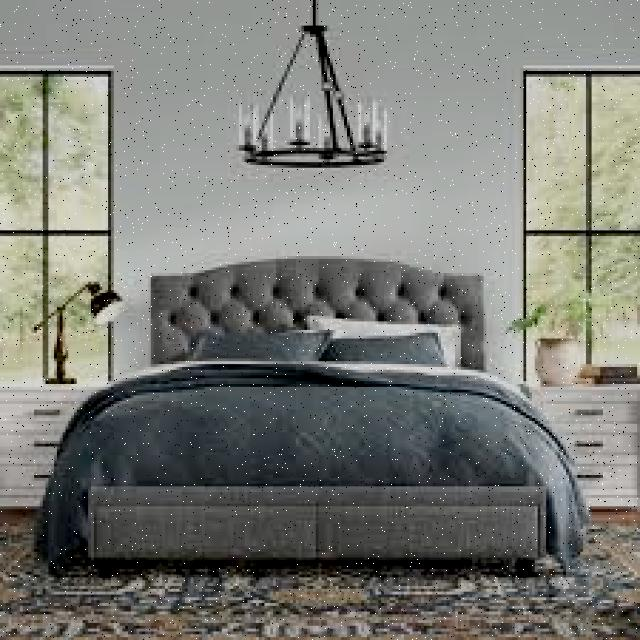bed: (68, 276, 552, 576)
